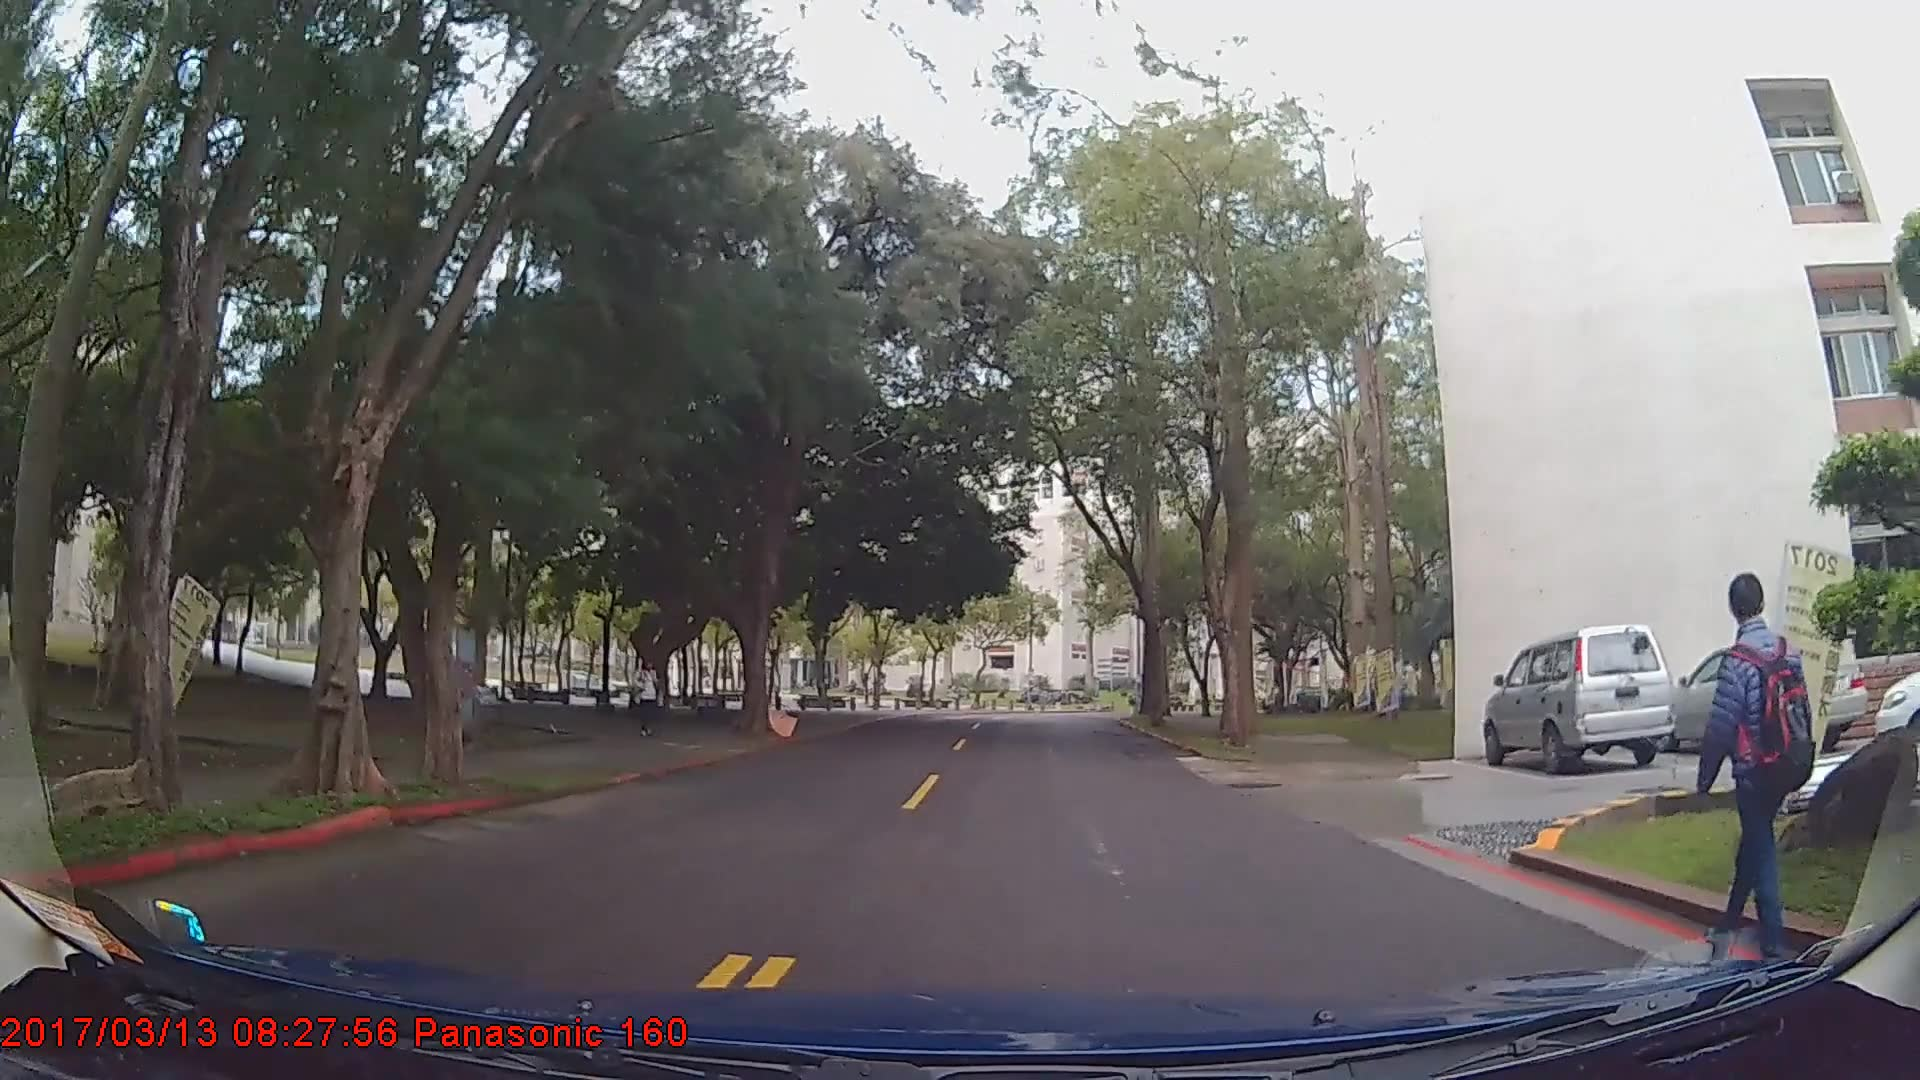pedestrian: (1693, 575, 1818, 963), (633, 658, 664, 737)
vehicle: (1483, 623, 1675, 773)
